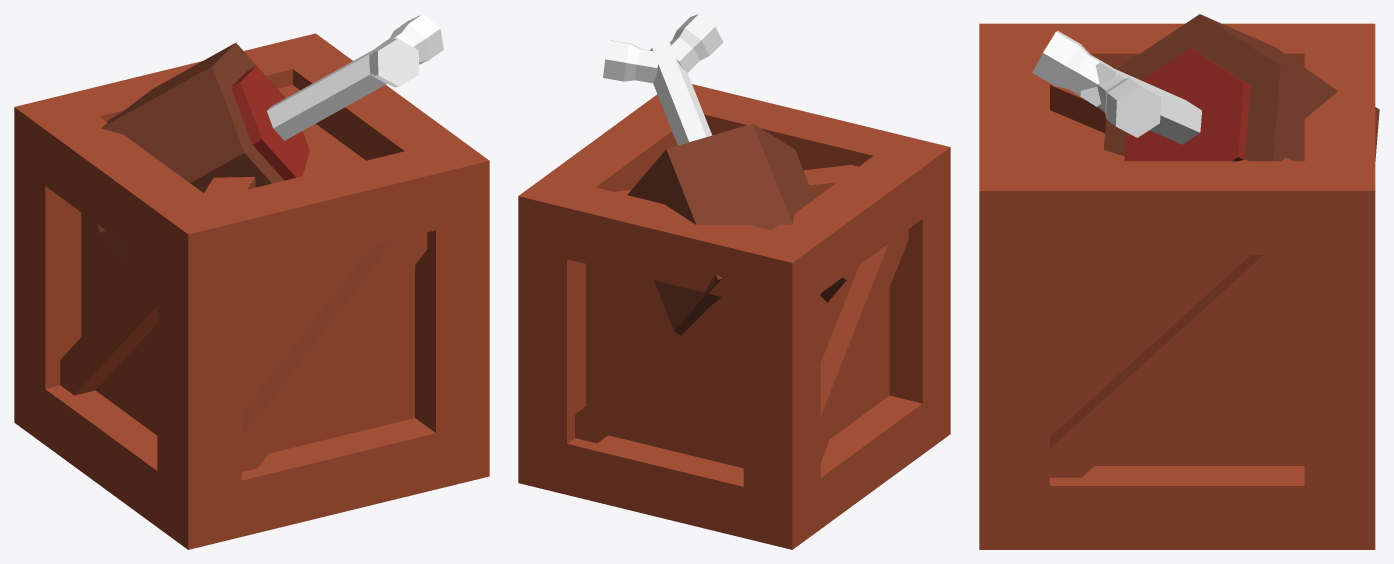
Rendered from FoodBox.fbx.
3 views of the same model, side by side, from view 1: azimuth 30°, elevation 25°; view 2: azimuth 150°, elevation 25°; view 3: azimuth 270°, elevation 25° (orthographic). The views are drawn at different scales.
Parts seen in each view (by area): view 1: mergedBlocks; view 2: mergedBlocks; view 3: mergedBlocks.
Boxes of the visible parts, x1,y1,x2,y2 form: mergedBlocks: (14,14,489,549); mergedBlocks: (518,14,950,549); mergedBlocks: (979,14,1379,549).
Bounding box in the file's own units: 3.14 × 4.06 × 3.03.
